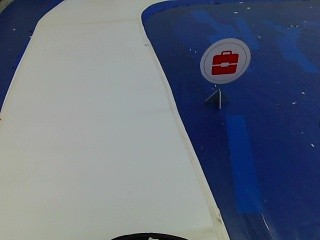company: (203, 42, 246, 85)
